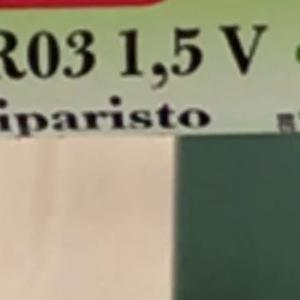keyword: (53, 15, 277, 117)
